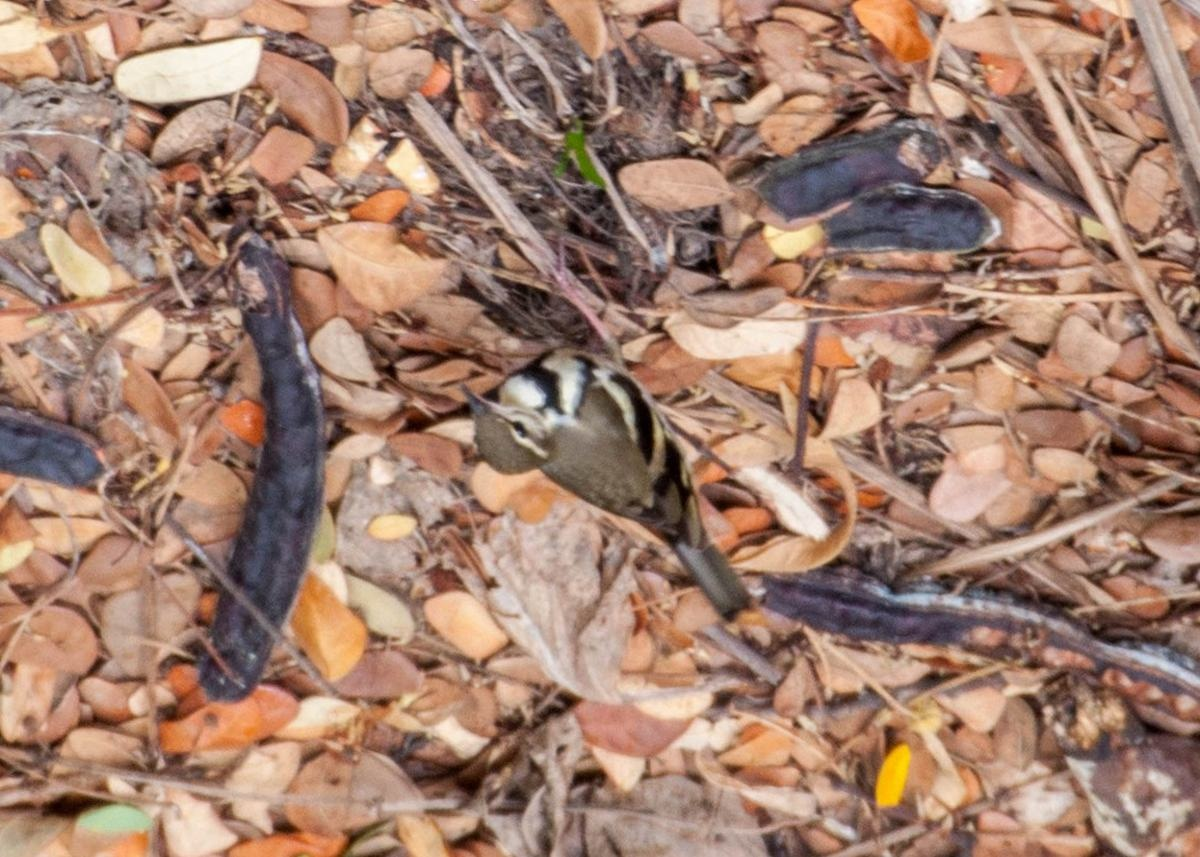wagtail: (461, 319, 730, 600)
